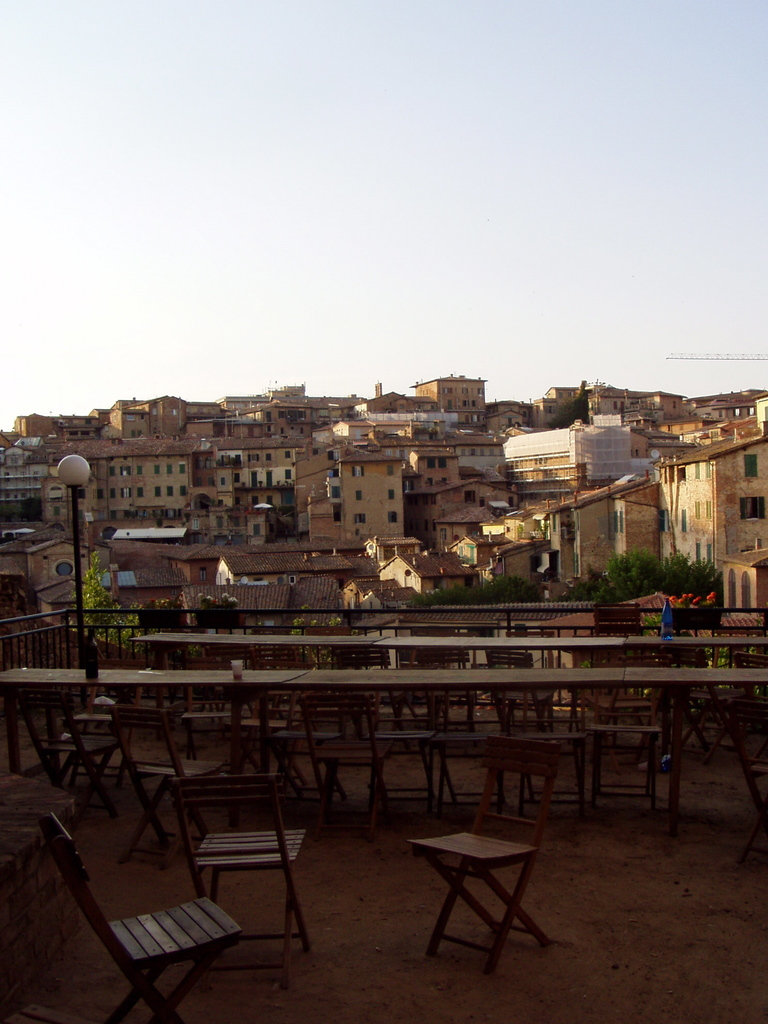Chair: (40, 803, 239, 1020), (404, 732, 567, 977), (168, 780, 315, 986), (112, 704, 226, 876), (579, 643, 678, 809), (303, 685, 403, 839), (16, 694, 131, 804), (88, 643, 175, 774), (716, 699, 767, 872), (493, 638, 565, 756), (327, 636, 401, 741), (415, 641, 486, 743), (584, 605, 642, 689)
